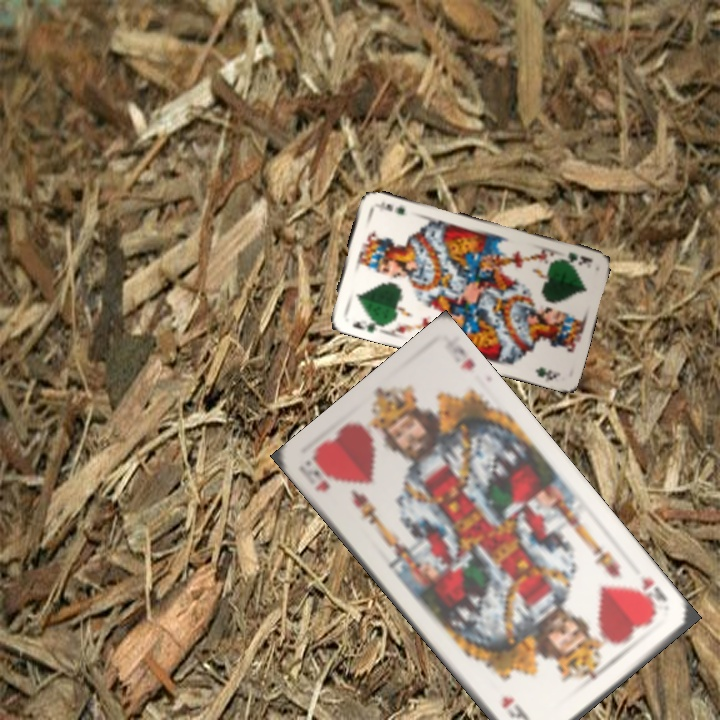GK: (554, 248, 595, 267), (349, 315, 383, 335)
HK: (631, 572, 670, 616), (302, 465, 333, 495)
